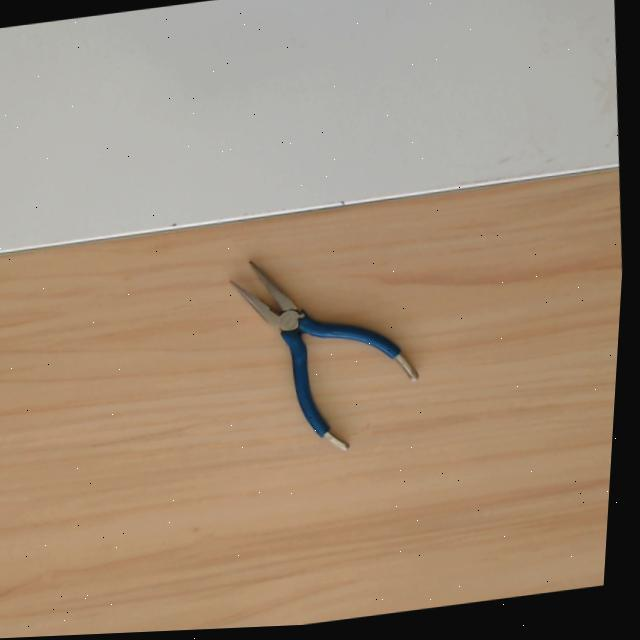Tang-Jepit-Biru: (195, 226, 423, 456)
